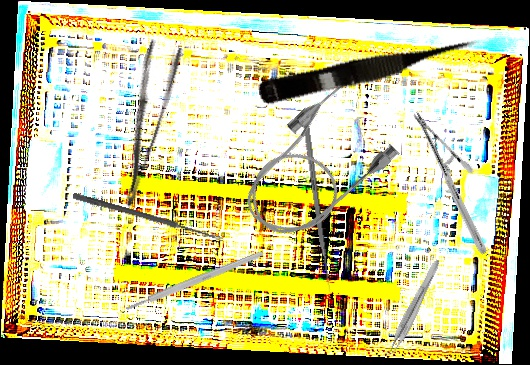Cannula: (223, 74, 408, 256)
Dressing Forceps: (99, 38, 186, 209)
Micro Scissor: (256, 30, 484, 112)
Needle Holder: (370, 110, 530, 256)
Pusher: (301, 110, 333, 296)
Scalpel Handle: (124, 249, 265, 313)
Surgical Spoon: (72, 192, 224, 243)
Tissue Forceps: (383, 255, 442, 361)
